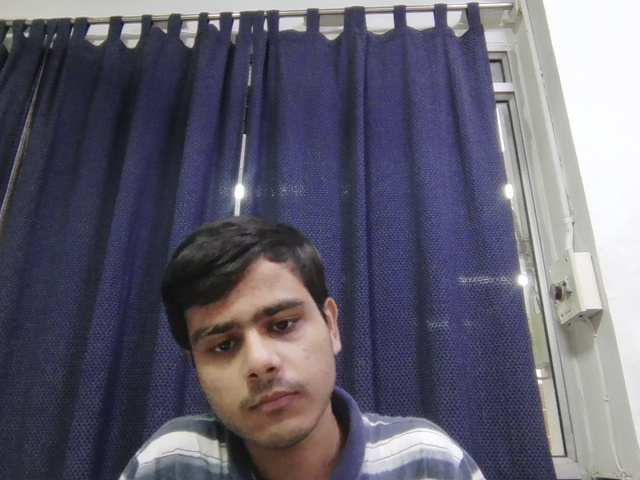face: (171, 241, 345, 444)
